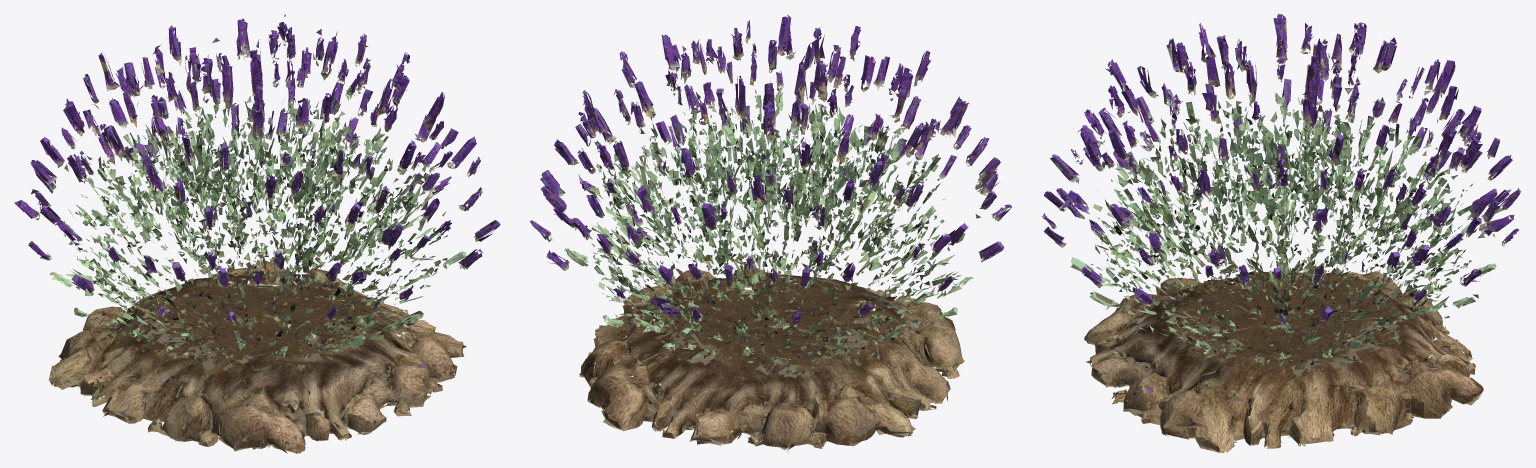
Rendered from veg_shrub_lavender_01.glb.
3 renders of one model, left to right at view 1: azimuth 30°, elevation 25°; view 2: azimuth 150°, elevation 25°; view 3: azimuth 270°, elevation 25°, orthographic.
Visible parts, largest first — view 1: veg_shrub_lavender_01; view 2: veg_shrub_lavender_01; view 3: veg_shrub_lavender_01.
Part boxes in pixels (x1,y1,x2,y2): veg_shrub_lavender_01: (14,14,500,453); veg_shrub_lavender_01: (530,14,1011,452); veg_shrub_lavender_01: (1042,14,1521,453).
Size of the model in its own units: 0.7045 by 0.5367 by 0.7.
1 material, 1 textured.
